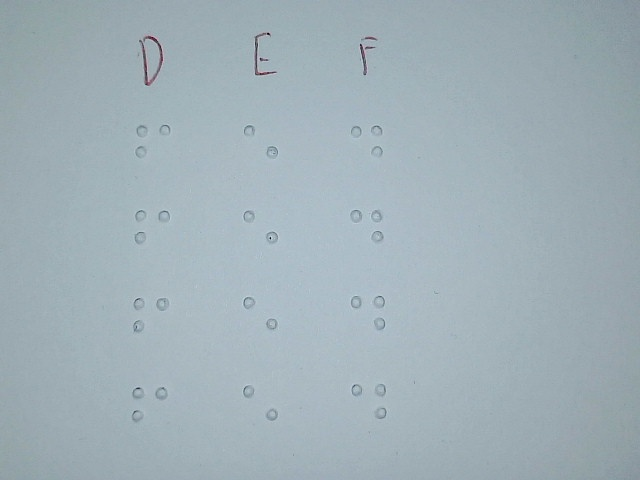D: (349, 113, 386, 181), (348, 198, 385, 266), (349, 282, 386, 350), (350, 370, 387, 438)
E: (242, 112, 280, 183), (241, 197, 279, 268), (241, 285, 279, 356), (242, 370, 280, 441)
F: (133, 111, 173, 182), (133, 196, 173, 267), (131, 281, 171, 352), (130, 373, 170, 444)
